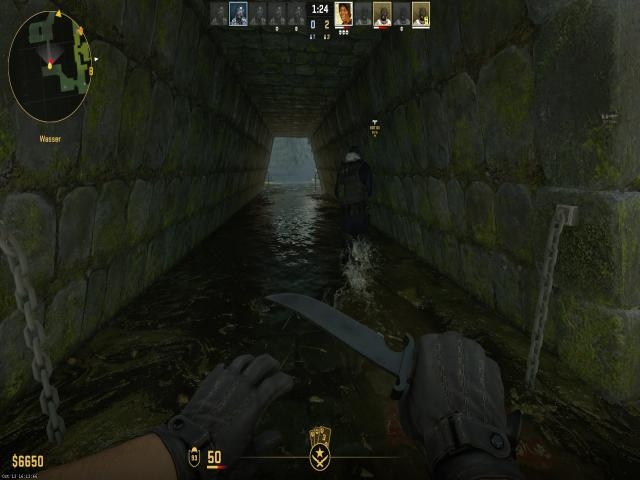CT: (337, 142, 370, 256)
CT-Head: (341, 144, 364, 172)
